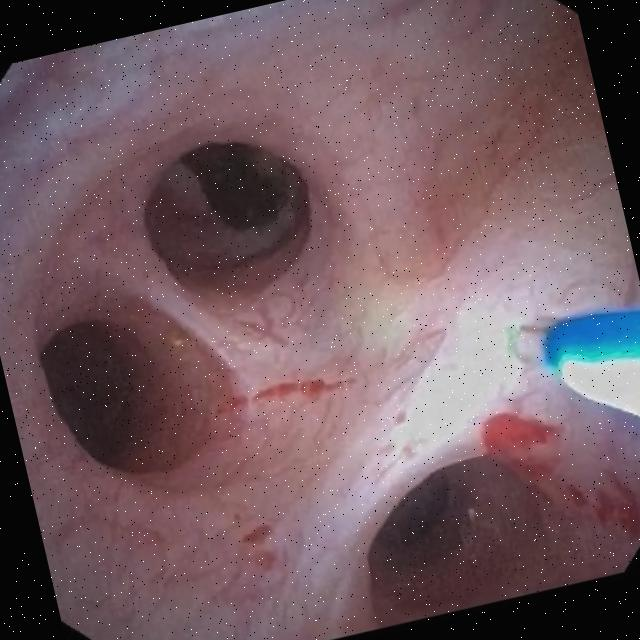laser-fibre: (509, 320, 555, 363)
laser_dot: (352, 290, 400, 346)
stone-new: (183, 144, 289, 230)
